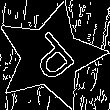P_SE: (19, 25, 82, 87)
